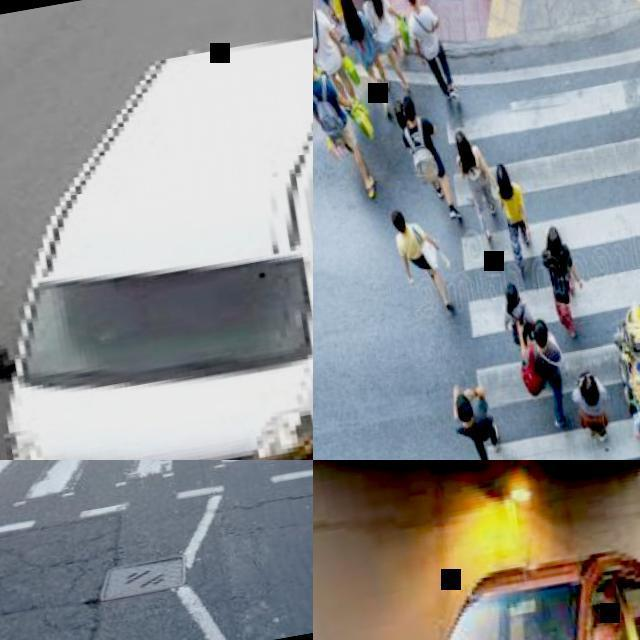car: (6, 44, 314, 563)
